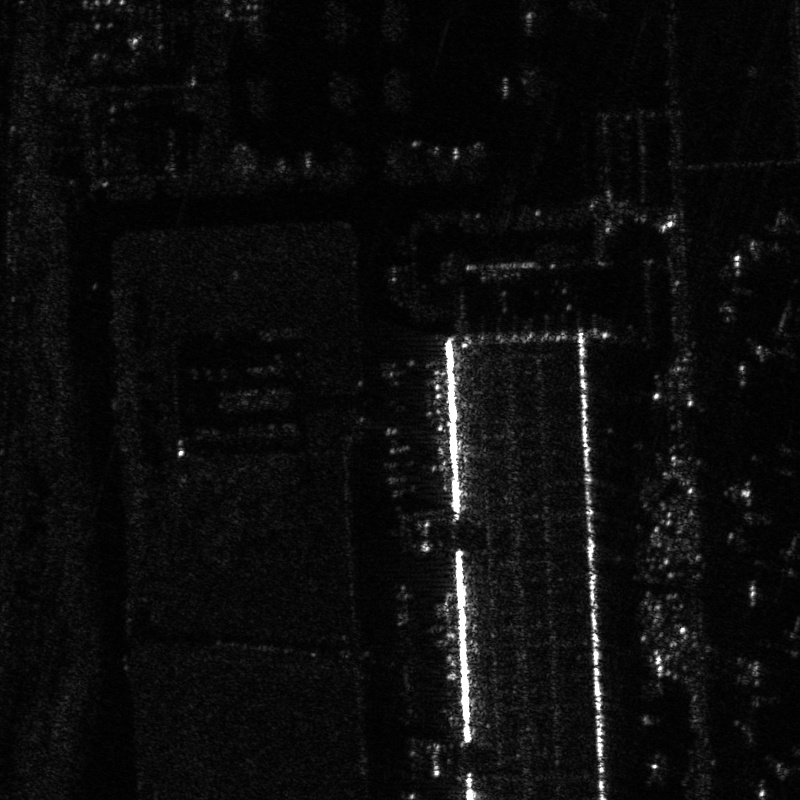A320/321: (751, 294, 799, 366), (752, 526, 799, 585)
